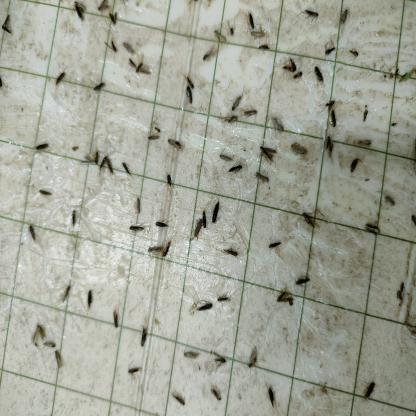prays_oleae: (129, 51, 149, 84), (195, 292, 216, 322), (66, 4, 92, 28), (251, 166, 275, 191), (105, 310, 125, 338), (356, 381, 380, 404), (165, 136, 185, 163), (163, 172, 185, 196), (80, 146, 100, 172), (256, 141, 280, 162), (350, 154, 368, 182), (363, 218, 383, 243), (126, 363, 150, 382), (277, 290, 295, 315), (268, 233, 284, 261), (300, 211, 321, 232), (146, 121, 162, 148), (38, 129, 56, 153), (38, 186, 58, 207), (323, 39, 340, 63), (50, 68, 69, 89), (146, 238, 164, 260), (23, 218, 40, 241), (29, 317, 46, 340), (118, 162, 136, 183), (290, 141, 310, 159), (245, 351, 260, 375), (296, 275, 316, 293), (382, 189, 399, 210), (199, 45, 218, 63), (222, 243, 241, 260), (227, 97, 247, 113), (1, 8, 10, 42), (213, 349, 229, 368), (215, 150, 235, 165), (302, 8, 323, 22), (182, 71, 199, 88), (190, 217, 202, 241), (162, 239, 174, 263), (96, 0, 115, 15), (172, 390, 186, 410), (313, 62, 324, 87), (137, 324, 150, 345), (129, 223, 147, 238), (60, 286, 74, 305), (224, 114, 240, 130), (213, 32, 229, 48), (227, 164, 243, 180), (209, 386, 225, 402), (181, 348, 199, 362), (106, 156, 115, 183), (217, 291, 232, 307), (182, 87, 194, 107), (86, 290, 96, 314), (244, 108, 261, 122), (282, 55, 296, 72), (266, 384, 277, 405), (134, 196, 144, 219), (53, 352, 67, 368), (212, 207, 224, 225), (328, 142, 337, 166), (330, 110, 340, 131), (107, 11, 120, 27), (92, 80, 105, 95), (339, 6, 349, 25), (106, 39, 118, 53), (321, 132, 331, 148), (70, 212, 79, 227), (324, 97, 336, 108), (101, 152, 107, 173), (202, 207, 207, 232), (251, 30, 267, 37), (260, 43, 270, 54), (294, 72, 304, 82)
